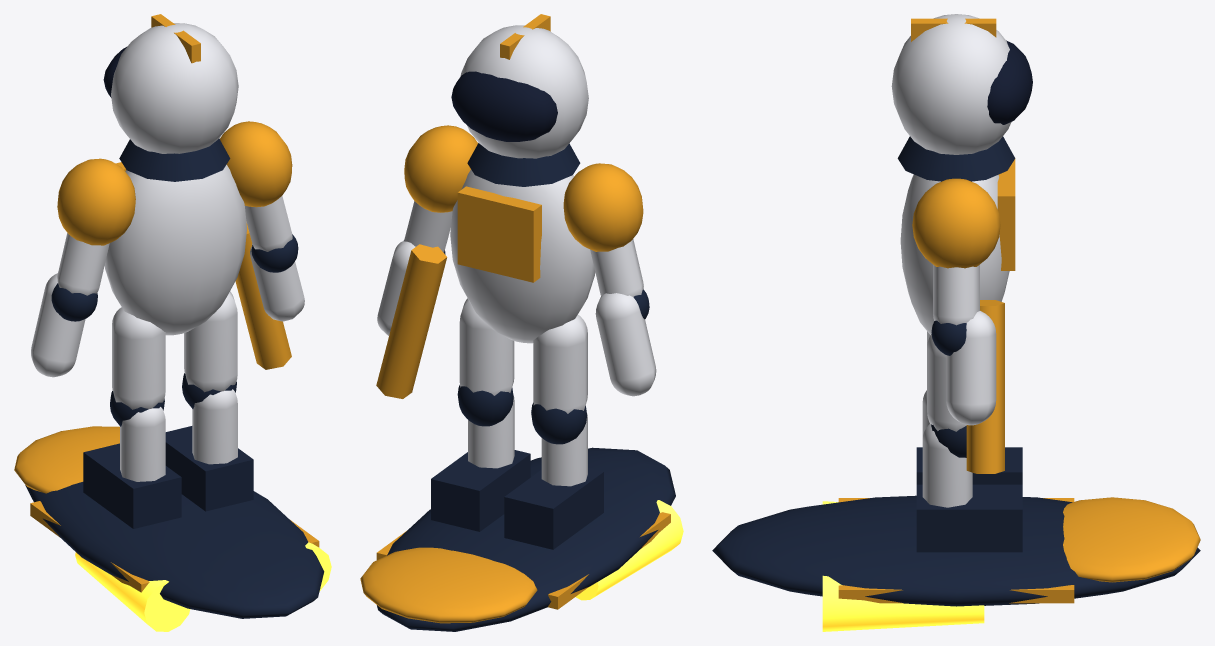
The model's file is courier.glb.
The picture shows the model from 3 angles, left to right: view 1: azimuth 30°, elevation 25°; view 2: azimuth 150°, elevation 25°; view 3: azimuth 270°, elevation 25°; orthographic projection. The views are drawn at different scales.
Visible parts, largest first — view 1: BoardDeck, Torso, Helmet, LeftShoulder, LeftBoot, LeftThigh, RightShoulder, RightBoot, BoardNose, RightThigh, Baton, LeftShin (+13 smaller); view 2: BoardDeck, Torso, BoardNose, Helmet, Chestplate, LeftBoot, Baton, LeftShoulder, Visor, RightBoot, RightShoulder, LeftThigh (+13 smaller); view 3: BoardDeck, Helmet, BoardNose, RightShoulder, RightBoot, RightGlove, Torso, Engine1, Baton, Collar, RightShin, RightUpperArm (+8 smaller).
Part boxes in pixels (x1,y1,x2,y2): BoardDeck: [25, 482, 324, 618]; Torso: [104, 164, 246, 335]; Helmet: [111, 23, 238, 153]; LeftShoulder: [57, 158, 135, 245]; LeftBoot: [83, 443, 181, 528]; LeftThigh: [112, 307, 165, 409]; RightShoulder: [220, 121, 292, 207]; RightBoot: [165, 426, 253, 511]; BoardNose: [14, 426, 119, 493]; RightThigh: [184, 291, 237, 392]; Baton: [235, 223, 291, 369]; LeftShin: [120, 407, 165, 481]; BoardDeck: [377, 447, 675, 631]; Torso: [450, 169, 595, 343]; BoardNose: [360, 547, 537, 623]; Helmet: [460, 25, 588, 158]; Chestplate: [457, 186, 541, 282]; LeftBoot: [504, 468, 603, 549]; Baton: [376, 244, 447, 398]; LeftShoulder: [563, 163, 643, 251]; Visor: [451, 71, 557, 141]; RightBoot: [431, 450, 530, 531]; RightShoulder: [404, 125, 477, 212]; LeftThigh: [533, 314, 587, 413]; BoardDeck: [712, 495, 1200, 606]; Helmet: [891, 14, 1011, 154]; BoardNose: [1063, 497, 1200, 582]; RightShoulder: [912, 178, 1000, 268]; RightBoot: [916, 484, 1022, 552]; RightGlove: [946, 311, 996, 425]; Torso: [900, 174, 1009, 334]; Engine1: [822, 575, 984, 631]; Baton: [966, 300, 1004, 473]; Collar: [897, 136, 1015, 181]; RightShin: [922, 424, 972, 507]; RightUpperArm: [933, 264, 979, 325].
Bounding box in the file's own units: 1.12 × 2.15 × 1.66.
